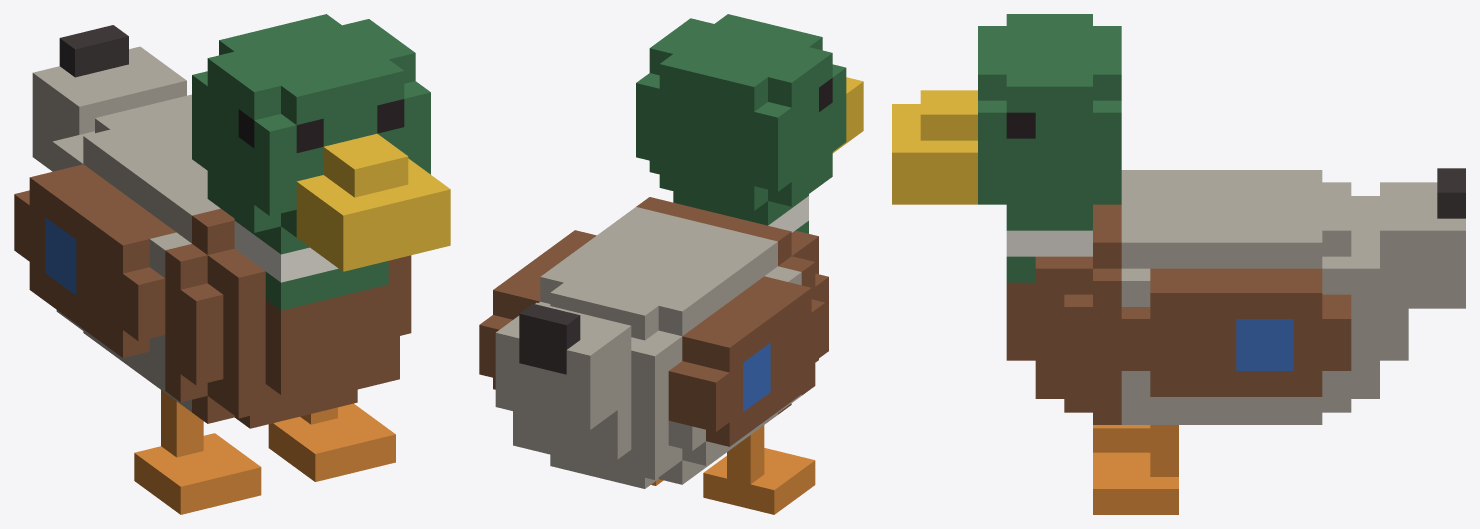
File: duck.glb
3 views of the same model, side by side, from view 1: azimuth 30°, elevation 25°; view 2: azimuth 150°, elevation 25°; view 3: azimuth 270°, elevation 25° (orthographic). The views are drawn at different scales.
Parts seen in each view (by area): view 1: duck; view 2: duck; view 3: duck.
Boxes of the visible parts, left/top/right/bottom form: duck: left=14, top=14, right=450, bottom=514; duck: left=479, top=14, right=863, bottom=514; duck: left=892, top=14, right=1465, bottom=514.
Size of the model in its own units: 1 by 1.6 by 2.
1 material, 1 textured.
